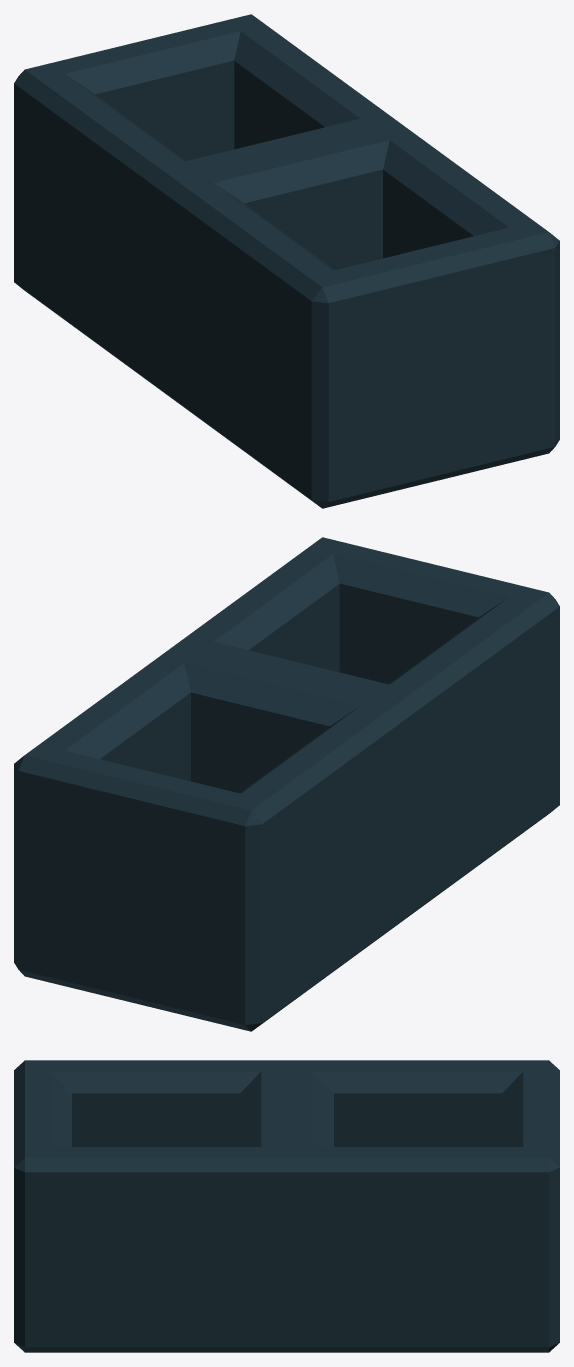
The model's file is props_34.glb.
3 views of the same model, one above another, from view 1: azimuth 30°, elevation 25°; view 2: azimuth 150°, elevation 25°; view 3: azimuth 270°, elevation 25° (orthographic). The views are drawn at different scales.
Visible parts, largest first — view 1: props_34; view 2: props_34; view 3: props_34.
Part boxes in pixels (x1,y1,x2,y2): props_34: (14, 14, 559, 508); props_34: (14, 537, 559, 1031); props_34: (14, 1060, 559, 1352).
Size of the model in its own units: 0.2569 by 0.2188 by 0.5558.
1 material, 1 textured.
